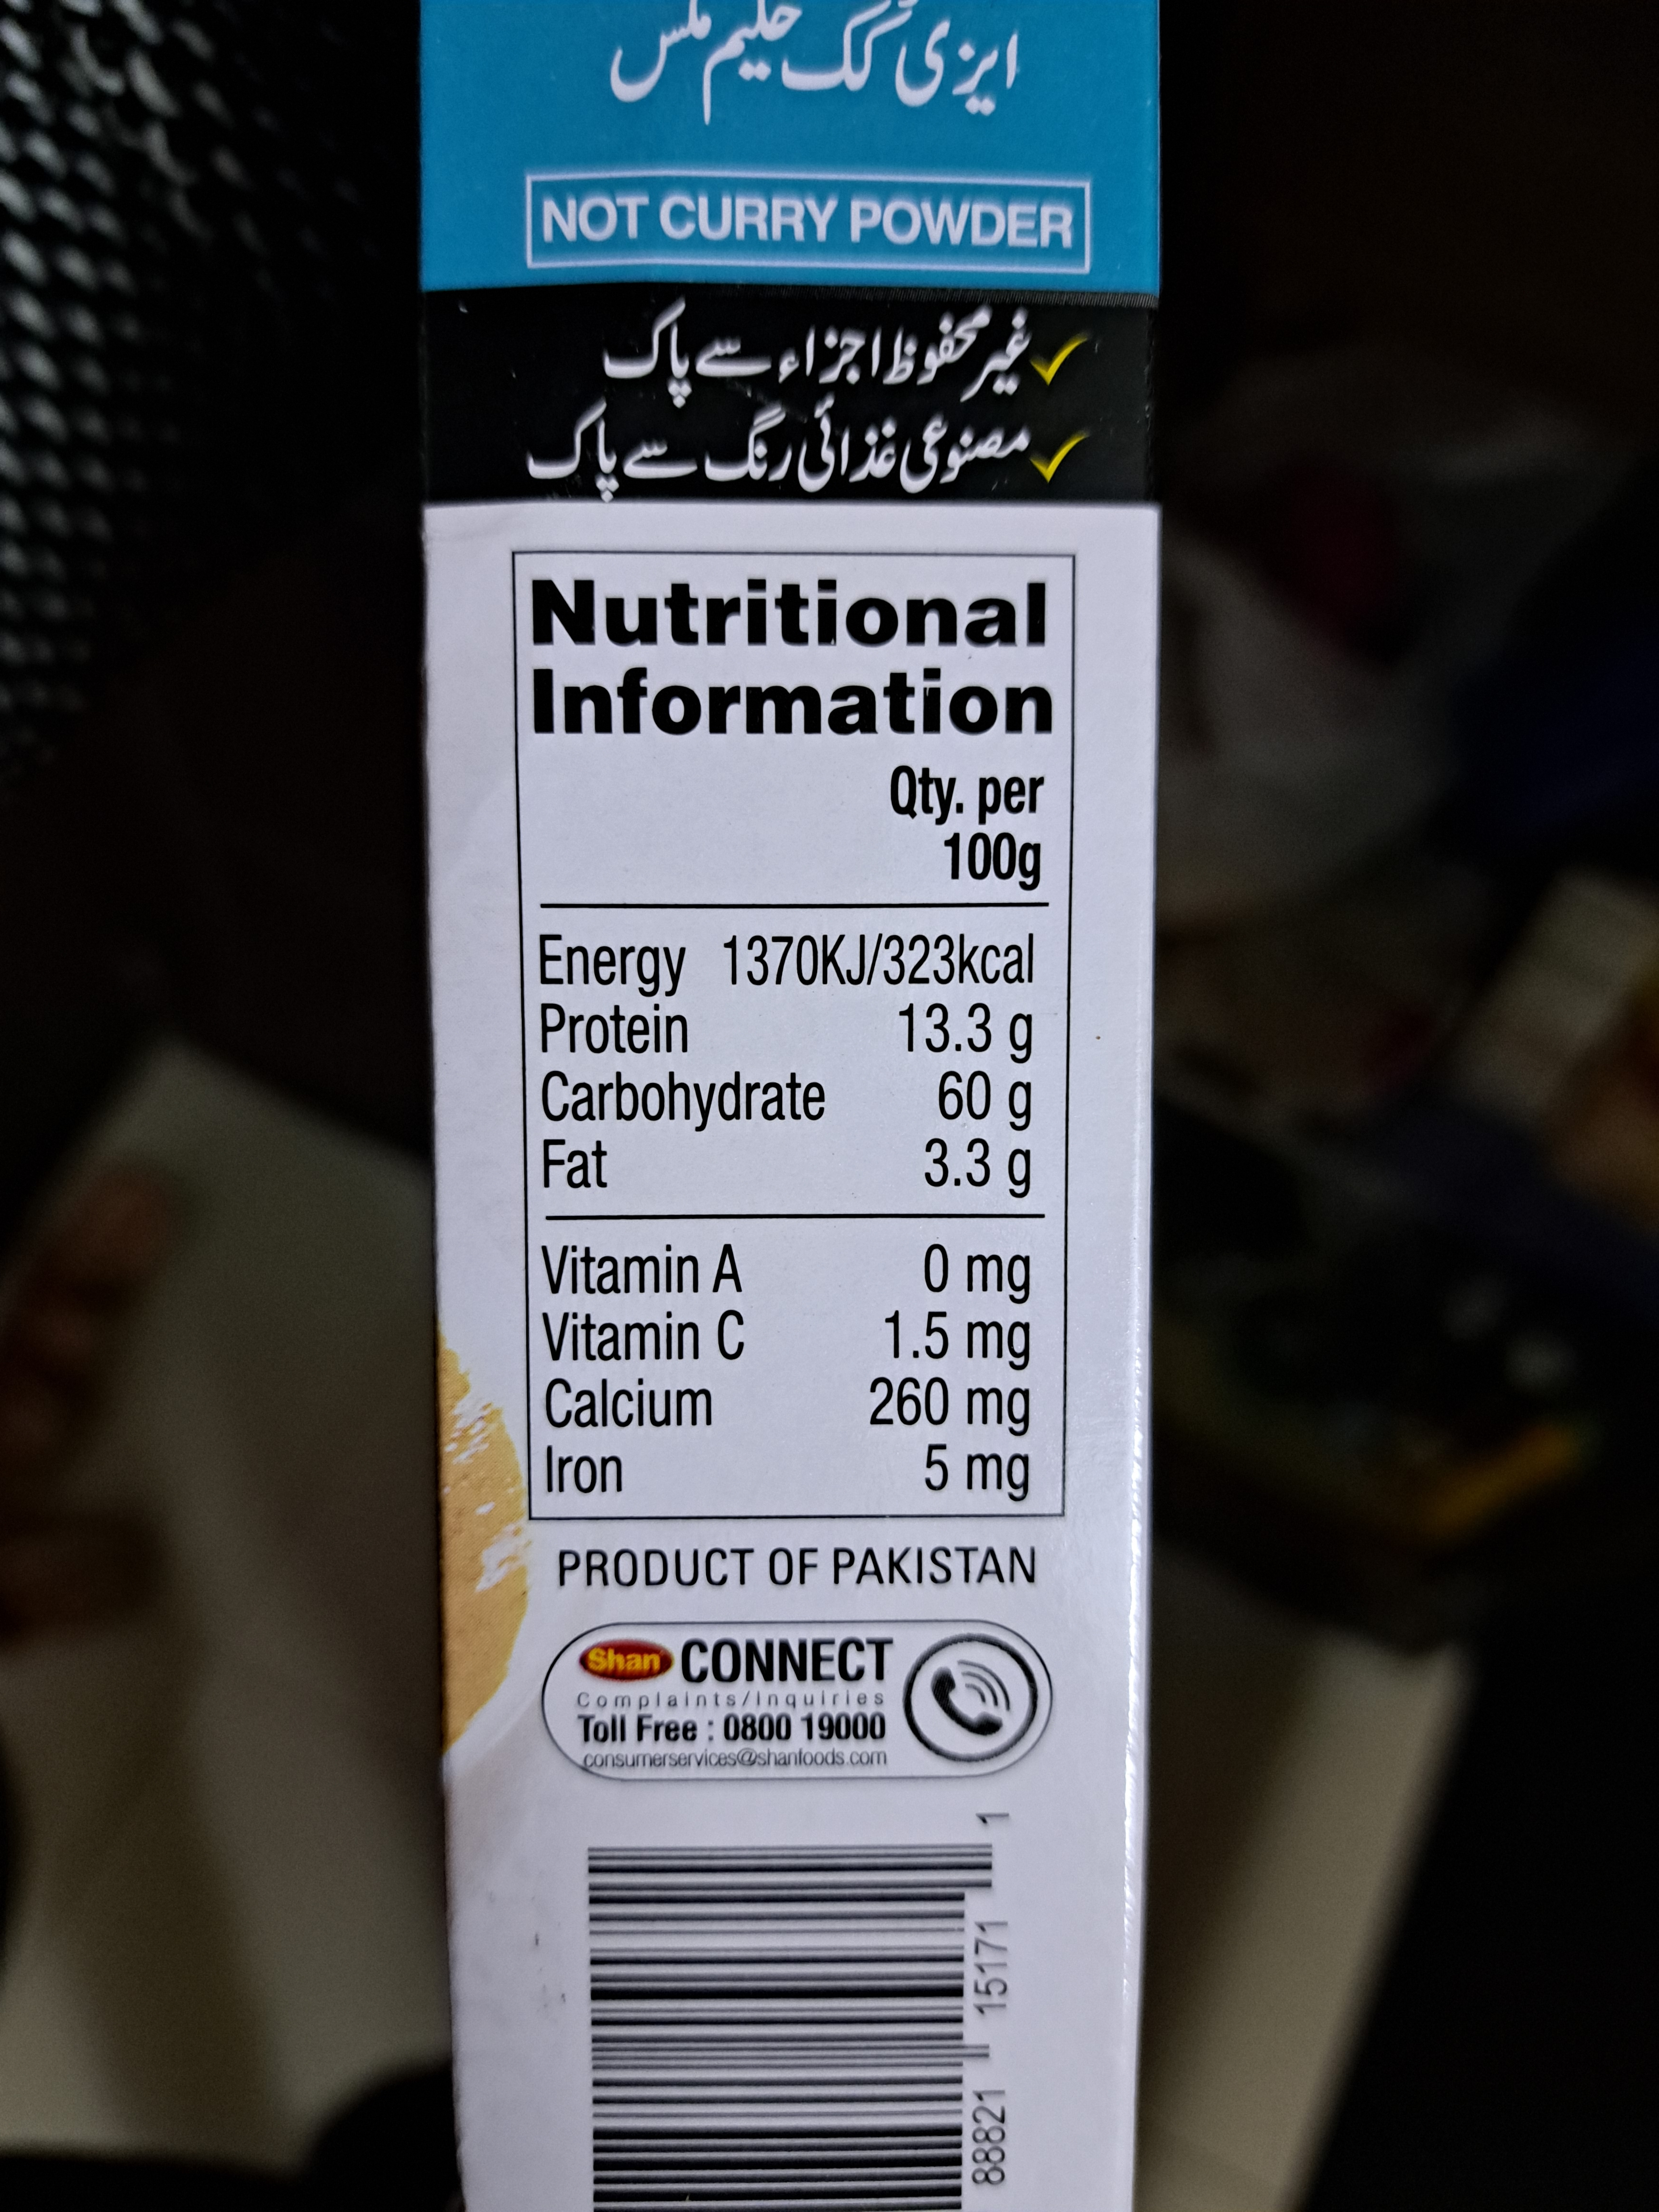table: (500, 536, 1079, 1529)
